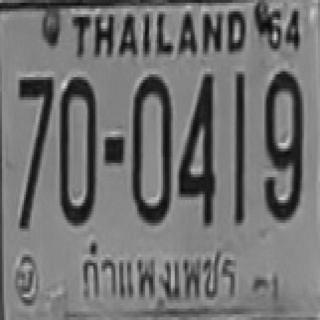N00: (131, 74, 171, 223), (59, 74, 96, 223)
N04: (176, 72, 214, 223)
N07: (17, 74, 53, 226)
N09: (262, 70, 302, 218)
P16: (74, 237, 242, 303)
